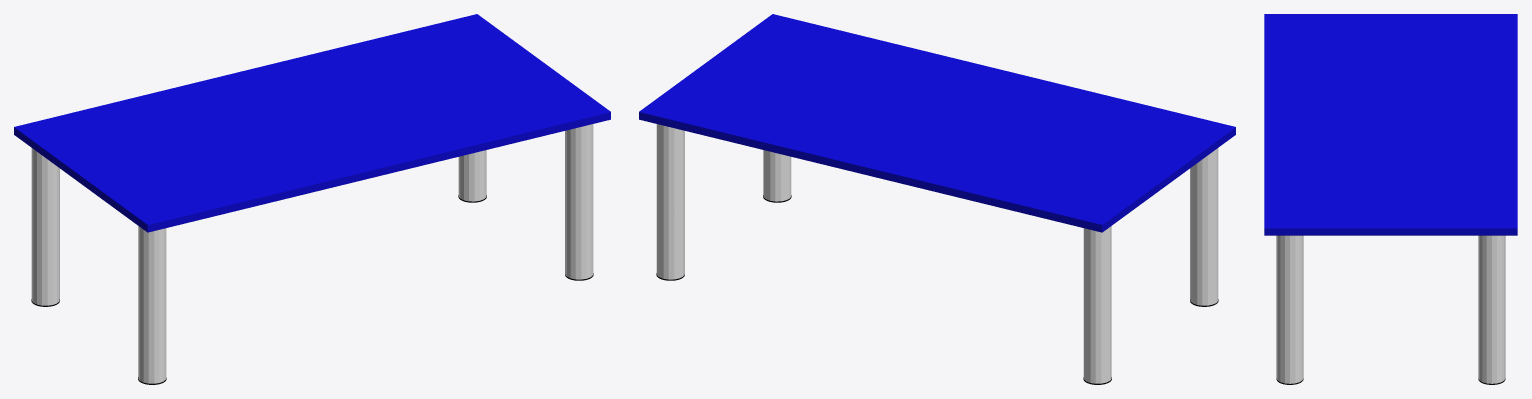
The model's file is Escritorio1.dae.
The picture shows the model from 3 angles, left to right: view 1: azimuth 30°, elevation 25°; view 2: azimuth 150°, elevation 25°; view 3: azimuth 270°, elevation 25°; orthographic projection. The views are drawn at different scales.
Visible parts, largest first — view 1: Office desk IKEA 150X75.001, Office desk IKEA 150X75.002; view 2: Office desk IKEA 150X75.001, Office desk IKEA 150X75.002; view 3: Office desk IKEA 150X75.001, Office desk IKEA 150X75.002.
Boxes of the visible parts, x1,y1,x2,y2 form: Office desk IKEA 150X75.001: (14, 14, 610, 232); Office desk IKEA 150X75.002: (31, 124, 593, 383); Office desk IKEA 150X75.001: (639, 14, 1235, 232); Office desk IKEA 150X75.002: (656, 124, 1218, 383); Office desk IKEA 150X75.001: (1264, 14, 1517, 235); Office desk IKEA 150X75.002: (1276, 235, 1505, 383).
Bounding box in the file's own units: 365 × 182 × 127.
